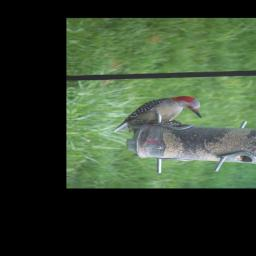Woodpecker: (111, 96, 203, 135)
